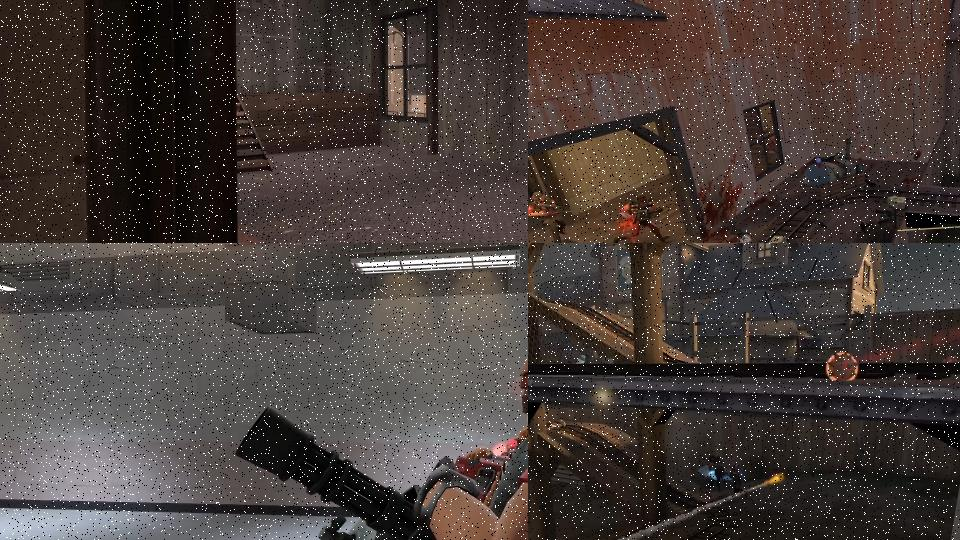Enemy: (235, 346, 528, 540), (610, 193, 672, 243), (528, 189, 574, 243), (728, 463, 746, 498), (699, 463, 723, 489), (711, 455, 728, 491)
